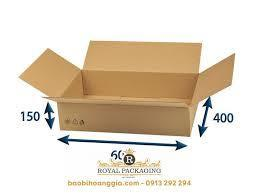box: (18, 40, 235, 138)
